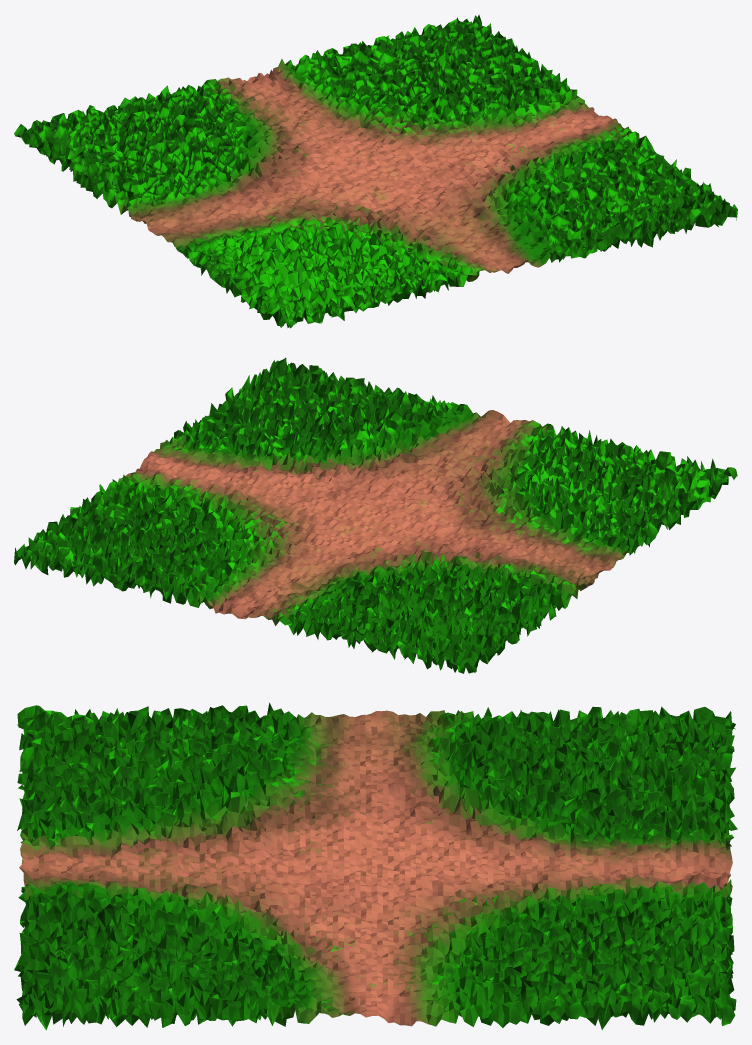
File: grass.glb
The picture shows the model from 3 angles, top to bottom: view 1: azimuth 30°, elevation 25°; view 2: azimuth 150°, elevation 25°; view 3: azimuth 270°, elevation 25°; orthographic projection. The views are drawn at different scales.
Visible parts, largest first — view 1: Plane; view 2: Plane; view 3: Plane.
Part boxes in pixels (bbox=[...]): Plane: bbox=[14, 14, 737, 328]; Plane: bbox=[14, 357, 737, 673]; Plane: bbox=[14, 702, 737, 1030].
Bounding box in the file's own units: 2.04 × 0.1172 × 2.04.
Materials: 1 (1 with a texture image).
